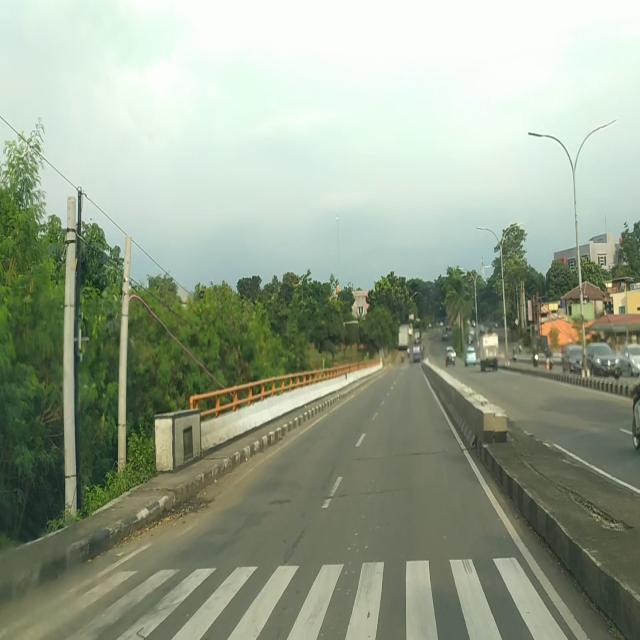Sewer Cover: (348, 447, 461, 463), (320, 487, 416, 497), (265, 497, 291, 506)
